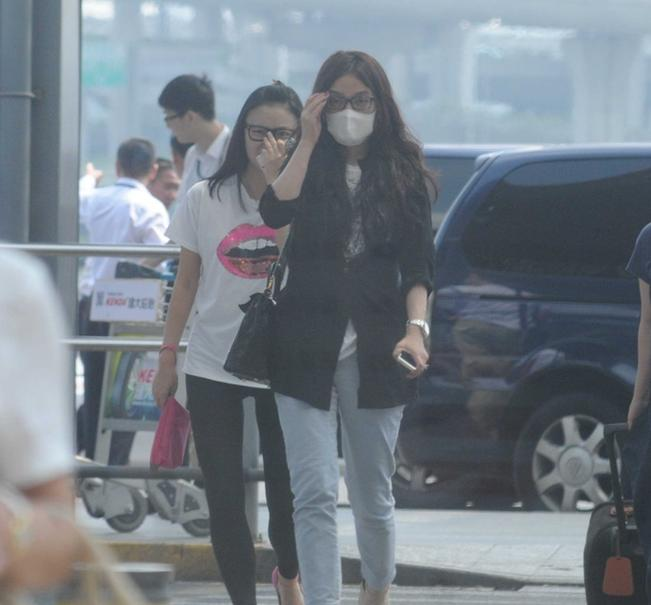face: (324, 78, 375, 145), (246, 106, 297, 172), (161, 104, 192, 143)
